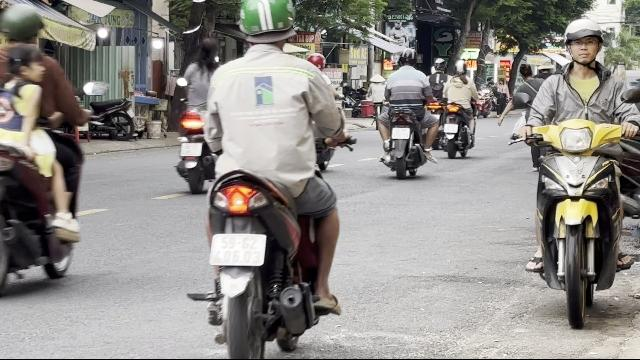helmet: (238, 0, 298, 52), (561, 17, 607, 71), (1, 0, 45, 46), (398, 47, 417, 67), (452, 58, 468, 78), (307, 52, 325, 68), (433, 57, 447, 72)
licenseplate: (210, 233, 266, 265), (180, 142, 202, 156), (391, 128, 409, 138), (444, 124, 458, 132)
motorcyclist: (184, 0, 354, 356), (510, 15, 640, 313), (0, 0, 88, 300), (375, 47, 437, 178), (174, 36, 222, 192), (437, 58, 479, 158)
nohelmet: (4, 44, 50, 86), (196, 38, 220, 68)
